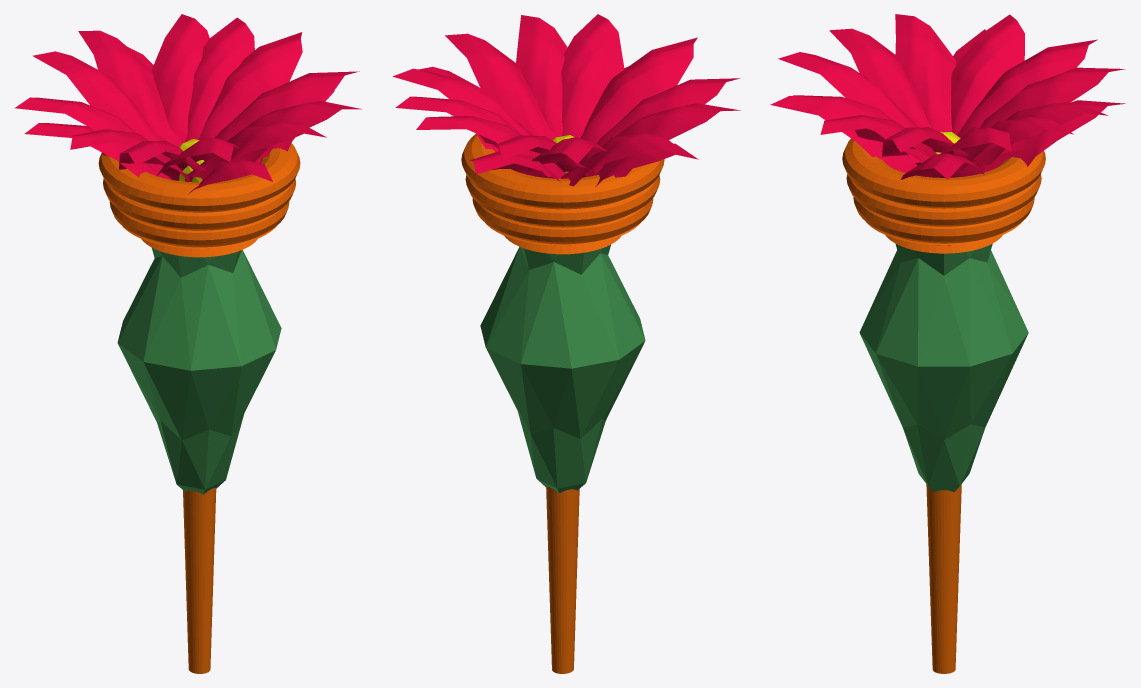
File: Tree_2.fbx
3 renders of one model, left to right at view 1: azimuth 30°, elevation 25°; view 2: azimuth 150°, elevation 25°; view 3: azimuth 270°, elevation 25°, orthographic.
Visible parts, largest first — view 1: Leaves, Icosphere, Torus.002, Cilindro; view 2: Leaves, Icosphere, Torus.002, Cilindro; view 3: Leaves, Icosphere, Torus.002, Cilindro.
Boxes of the visible parts, x1,y1,x2,y2 form: Leaves: (14,14,361,194); Icosphere: (117,248,281,494); Torus.002: (98,143,300,257); Cilindro: (183,488,216,673); Leaves: (392,14,740,187); Icosphere: (480,244,645,493); Torus.002: (461,134,664,254); Cilindro: (546,486,579,673); Leaves: (770,14,1125,179); Icosphere: (859,244,1028,492); Torus.002: (842,138,1045,253); Cilindro: (926,484,961,673).
Size of the model in its own units: 1401 by 2553 by 1403.
